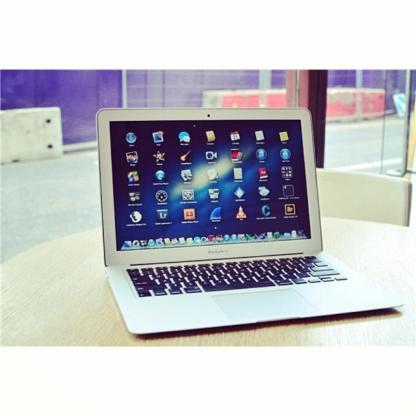board: (95, 107, 404, 336)
